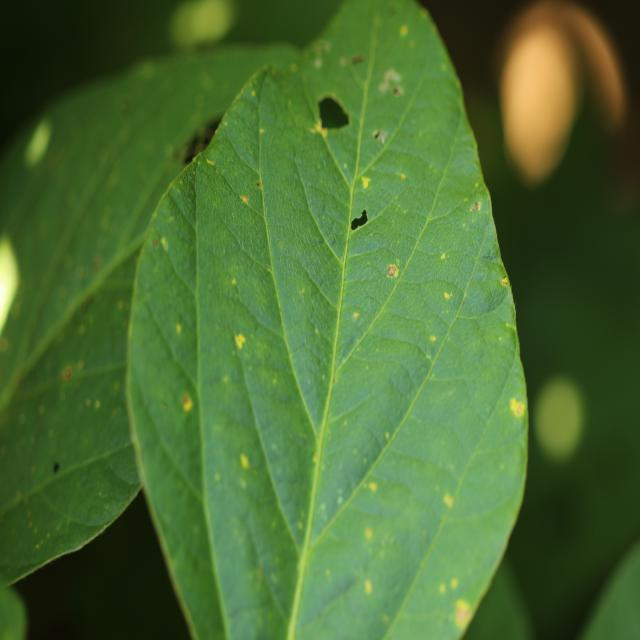Soybean: (0, 0, 530, 640)
downey_mildew: (491, 163, 640, 622), (321, 301, 454, 533), (363, 451, 525, 639), (208, 251, 314, 532), (292, 473, 438, 638), (404, 303, 519, 485), (543, 200, 640, 394), (129, 284, 212, 504), (138, 456, 234, 640), (190, 143, 279, 337), (383, 189, 504, 330), (188, 167, 220, 615), (7, 311, 130, 417), (362, 241, 456, 379), (4, 493, 130, 577), (47, 150, 127, 264), (143, 173, 201, 326), (423, 103, 491, 229), (271, 242, 341, 357), (210, 71, 270, 199), (337, 344, 427, 425), (44, 456, 139, 528), (360, 143, 442, 220), (319, 91, 366, 197), (298, 555, 363, 620), (342, 244, 410, 288), (165, 168, 201, 247), (208, 40, 303, 69), (103, 447, 144, 487), (245, 66, 273, 112), (25, 122, 51, 164), (116, 94, 133, 116), (139, 63, 156, 79), (184, 151, 198, 166), (373, 129, 387, 144), (329, 236, 341, 252), (350, 54, 365, 66), (392, 85, 403, 97), (38, 405, 45, 415)
